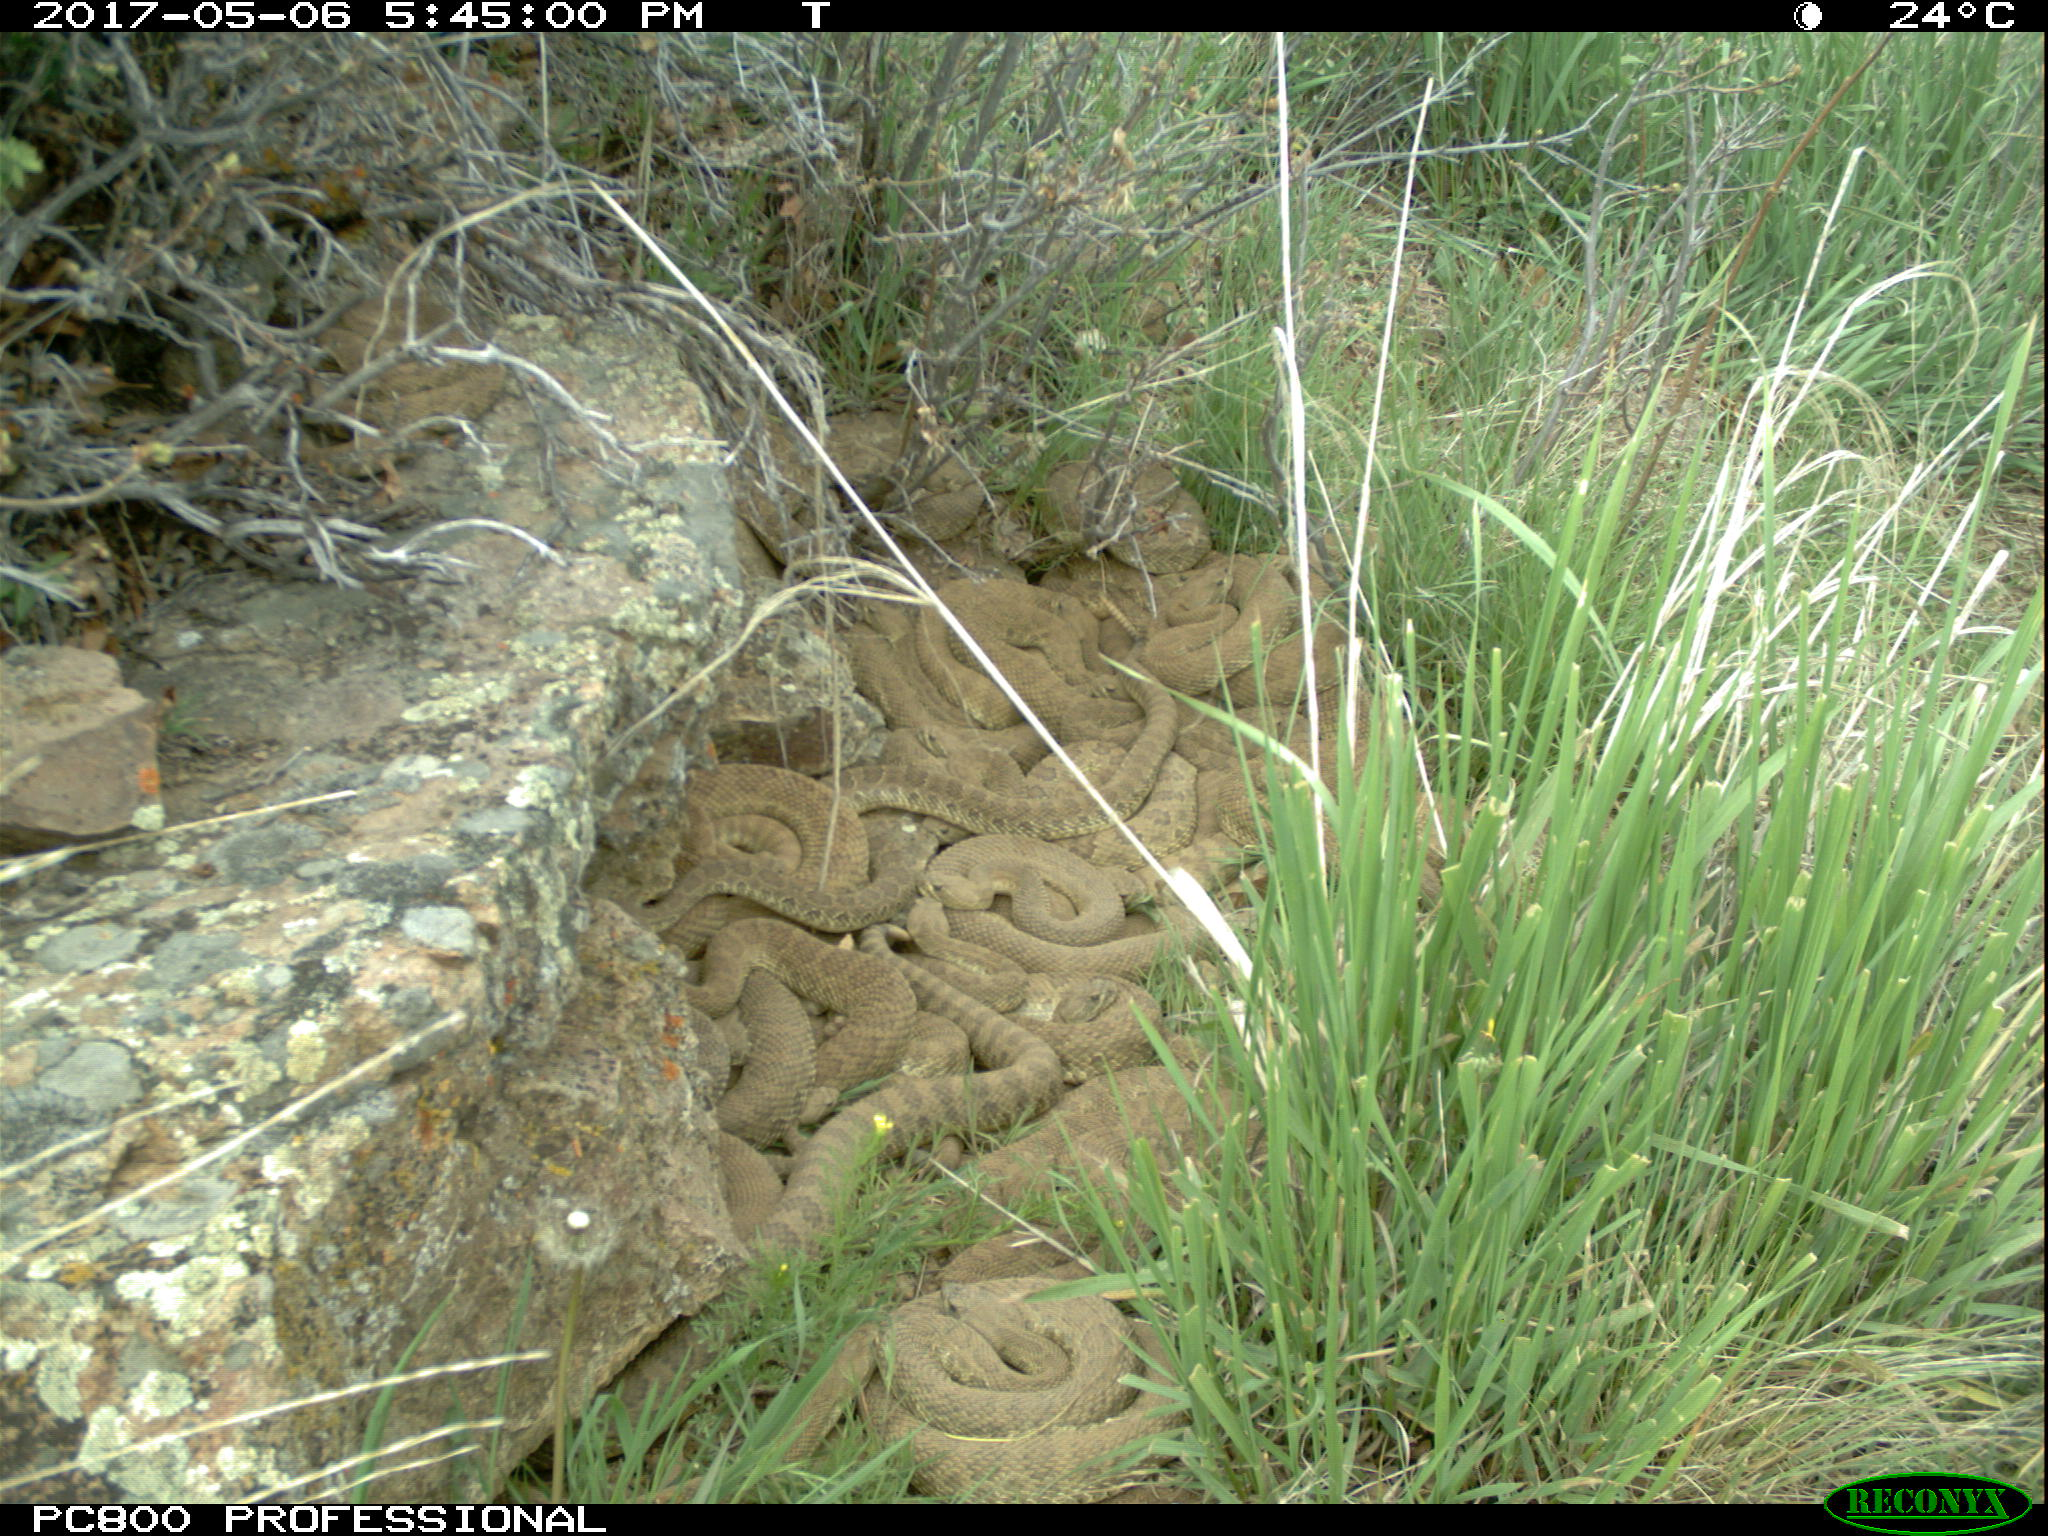snake: (690, 907, 948, 1250), (890, 565, 1198, 824), (864, 1270, 1200, 1499), (919, 834, 1169, 1087), (953, 1071, 1269, 1267), (648, 752, 887, 949), (1142, 542, 1379, 708), (303, 298, 531, 442)
